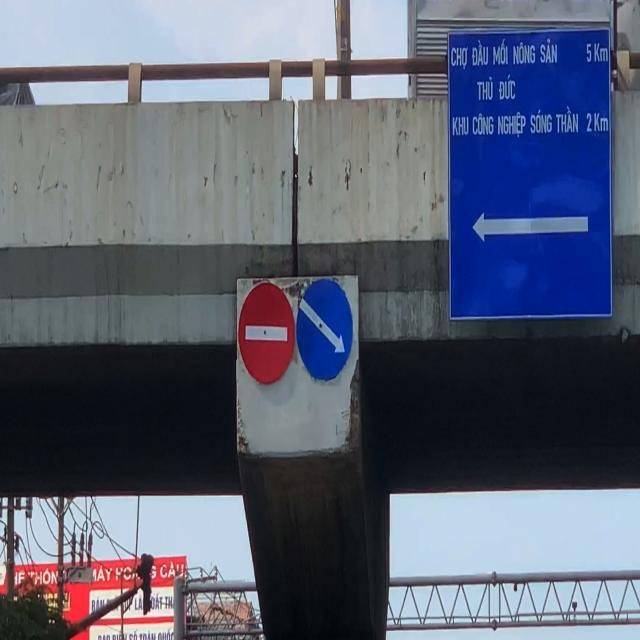Cam nguoc chieu: (236, 280, 296, 387)
Hieu lenh: (294, 275, 356, 384)
